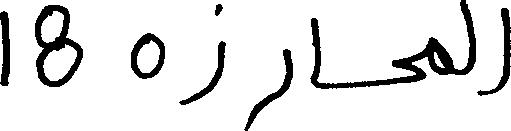X: (182, 0, 224, 109), (35, 0, 82, 91), (245, 44, 292, 130), (131, 28, 164, 83), (491, 3, 510, 98), (391, 44, 424, 88), (428, 32, 452, 79), (461, 0, 475, 79), (312, 13, 322, 93), (0, 6, 8, 90)
